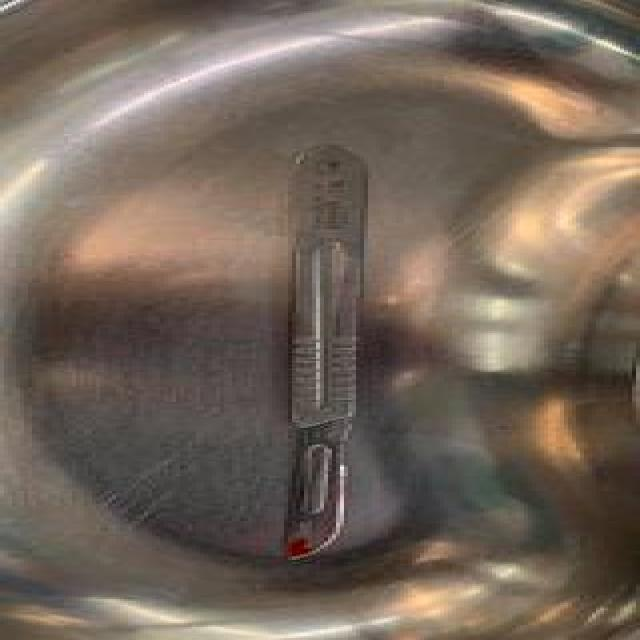Scalpel: (272, 140, 376, 564)
